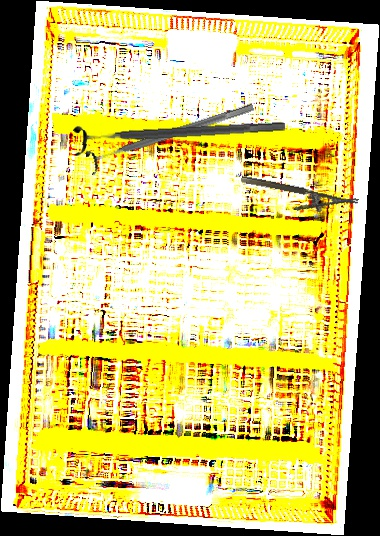Fixation Ring: (84, 94, 258, 177), (73, 110, 286, 158)
Needle Holder: (237, 174, 359, 223)
